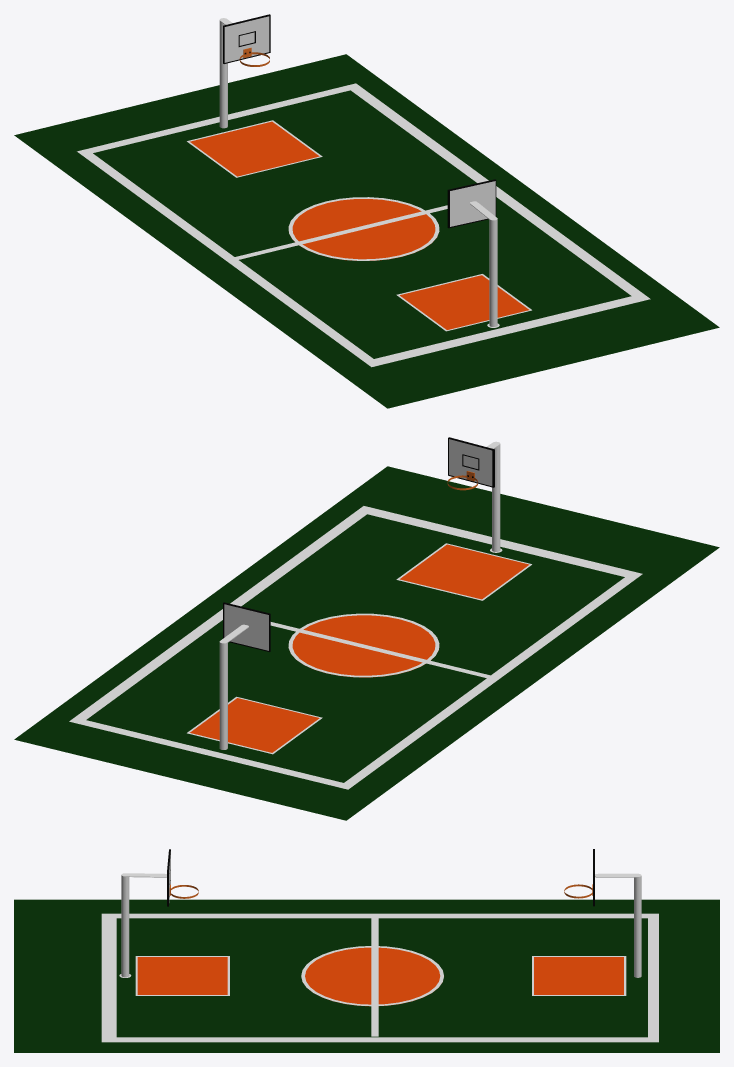
The model's file is basketbolsahasıblend.fbx.
The picture shows the model from 3 angles, top to bottom: view 1: azimuth 30°, elevation 25°; view 2: azimuth 150°, elevation 25°; view 3: azimuth 270°, elevation 25°; orthographic projection. The views are drawn at different scales.
Visible parts, largest first — view 1: Plane, Cylinder.002, Plane.002, Plane.003, Cube.002, Cube, Circle.001, Plane.001, Circle; view 2: Plane, Cylinder.002, Plane.003, Plane.002, Cube.002, Cube, Circle, Plane.001, Circle.001; view 3: Plane, Cylinder.002, Plane.002, Plane.003, Circle.001, Circle, Plane.001.
Part boxes in pixels (left/top/right/bottom): Plane: left=14, top=54, right=719, bottom=408; Cylinder.002: left=288, top=197, right=439, bottom=260; Plane.002: left=187, top=120, right=322, bottom=177; Plane.003: left=396, top=274, right=531, bottom=331; Cube.002: left=447, top=179, right=496, bottom=228; Cube: left=223, top=14, right=270, bottom=63; Circle.001: left=470, top=201, right=499, bottom=327; Plane.001: left=229, top=205, right=447, bottom=261; Circle: left=219, top=18, right=232, bottom=128; Plane: left=14, top=466, right=719, bottom=820; Cylinder.002: left=288, top=613, right=439, bottom=677; Plane.003: left=396, top=543, right=531, bottom=600; Plane.002: left=187, top=696, right=322, bottom=754; Cube.002: left=448, top=437, right=494, bottom=487; Cube: left=223, top=602, right=270, bottom=651; Circle: left=219, top=624, right=248, bottom=749; Plane.001: left=270, top=622, right=495, bottom=679; Circle.001: left=486, top=441, right=502, bottom=552; Plane: left=14, top=899, right=719, bottom=1052; Cylinder.002: left=301, top=946, right=443, bottom=1006; Plane.002: left=532, top=956, right=626, bottom=995; Plane.003: left=135, top=956, right=229, bottom=995; Circle.001: left=119, top=873, right=166, bottom=977; Circle: left=595, top=873, right=641, bottom=977; Plane.001: left=371, top=915, right=378, bottom=1036.
Bounding box in the file's own units: 1189 × 436 × 2314.
